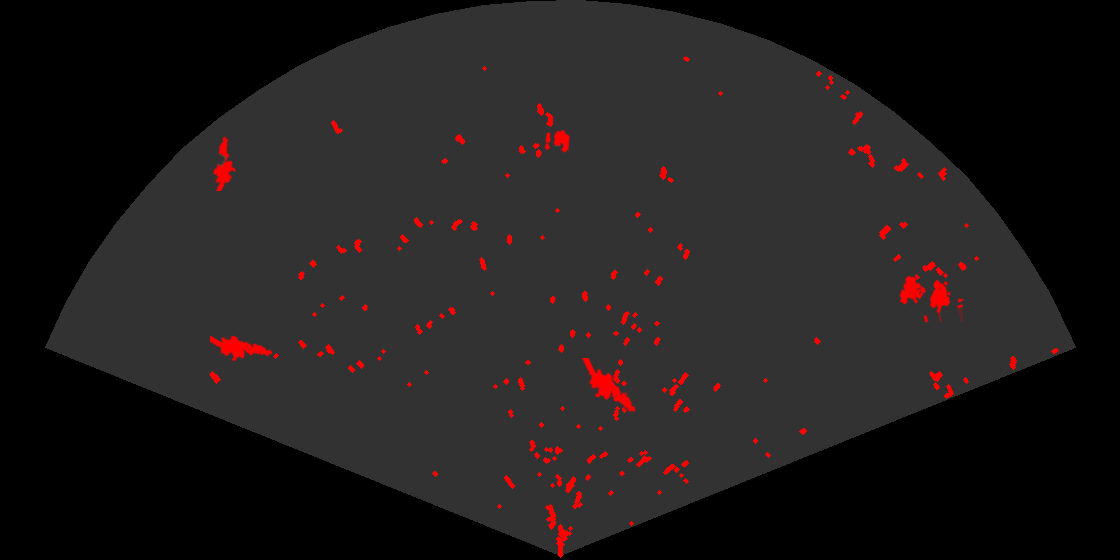ball: (543, 129, 571, 155)
cage: (898, 274, 963, 322)
frogman: (580, 358, 637, 414), (210, 334, 274, 363), (211, 134, 238, 191)
